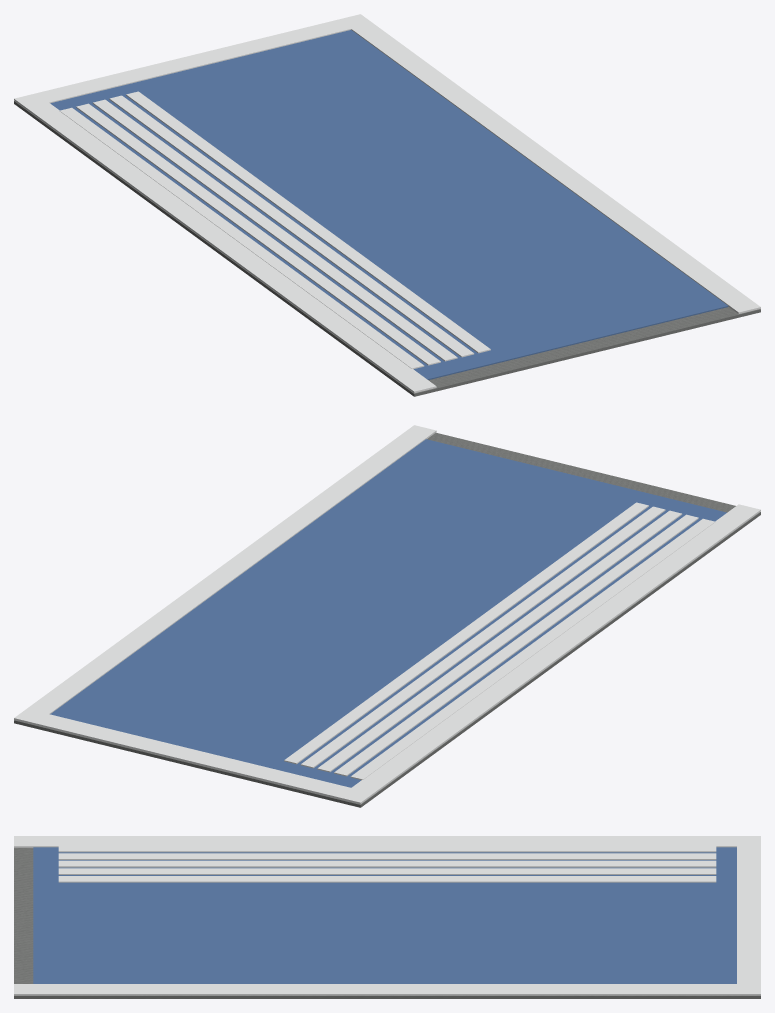
The model's file is car-park-and-road-vehicle-fleet-disabled-bay-tile-22090d5f.glb.
3 renders of one model, top to bottom at view 1: azimuth 30°, elevation 25°; view 2: azimuth 150°, elevation 25°; view 3: azimuth 270°, elevation 25°, orthographic. The views are drawn at different scales.
Visible parts, largest first — view 1: disabled-bay-tile; view 2: disabled-bay-tile; view 3: disabled-bay-tile.
Boxes of the visible parts, x1=… form: disabled-bay-tile: x1=14, y1=14, x2=760, y2=396; disabled-bay-tile: x1=14, y1=425, x2=760, y2=807; disabled-bay-tile: x1=14, y1=836, x2=760, y2=998.
Bounding box in the file's own units: 2.5 × 0.0381 × 5.
Materials: 3 (1 with a texture image).
